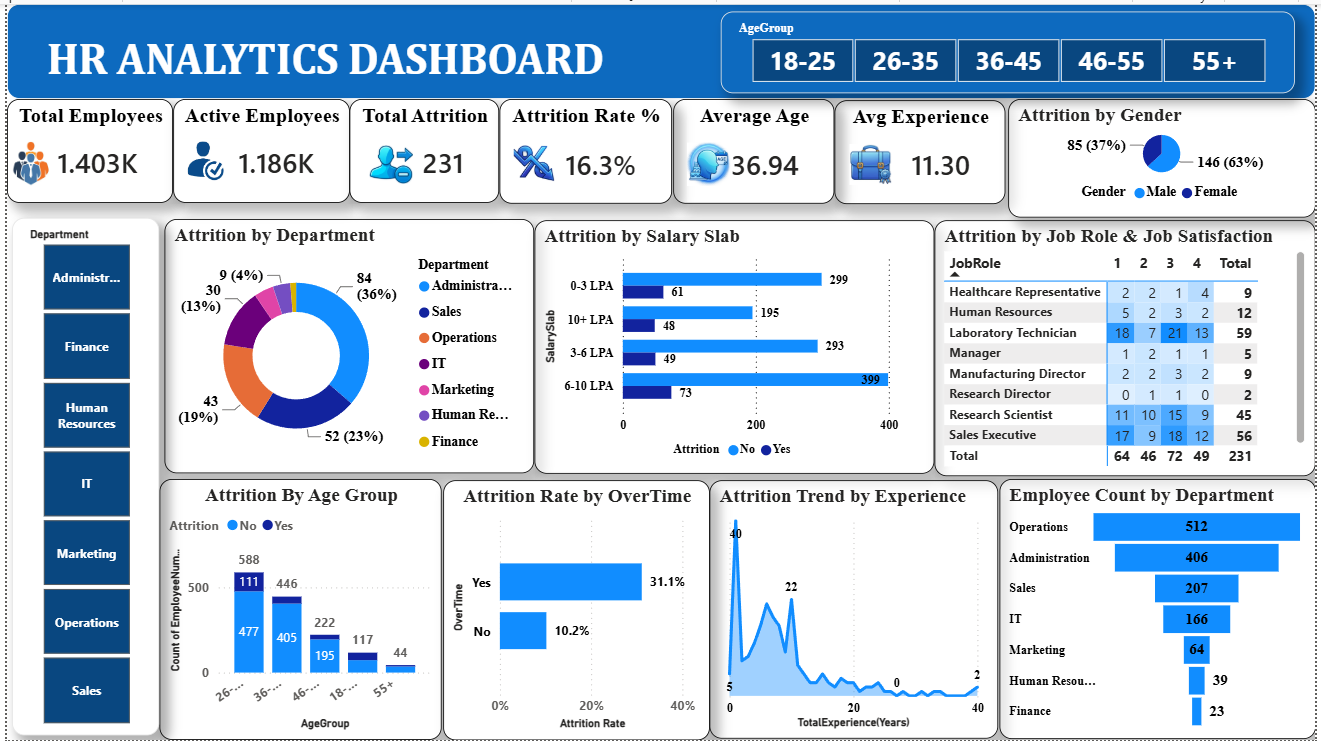

What the dashboard file says about the page in this screenshot:
{"tool":"powerbi","page":{"name":"Page 1","canvas":[1280,720],"ordinal":0},"visuals":[{"type":"textbox","box":[0,0,1280.3,92.9],"z":0},{"type":"cardVisual","title":"Total Employees","fields":{"Data":["Count(HR_Analytics-4.EmpID)"]},"box":[0,92.9,162.6,101.5],"z":1000},{"type":"cardVisual","title":"Active Employees","fields":{"Data":["CountNonNull(HR_Analytics-4.EmpID)"]},"box":[162.6,92.9,172.4,101.5],"z":2000},{"type":"cardVisual","title":"Total Attrition","fields":{"Data":["CountNonNull(HR_Analytics-4.AttritionCount)"]},"box":[335.1,92.9,146.7,101.5],"z":3000},{"type":"cardVisual","title":"Avg Experience","fields":{"Data":["Avg(HR_Analytics-4.TotalExperience(Years))"]},"box":[809.5,94.2,167.5,101.5],"z":4000},{"type":"cardVisual","title":"Average Age","fields":{"Data":["Avg(HR_Analytics-4.Age)"]},"box":[651.8,92.9,157.7,102.7],"z":5000},{"type":"cardVisual","title":"Attrition Rate %","fields":{"Data":["HR_Analytics-4.Attrition Rate %"]},"box":[481.8,92.9,168.8,102.7],"z":6000},{"type":"donutChart","title":" Attrition by Department","fields":{"Category":["HR_Analytics-4.Department"],"Y":["Sum(HR_Analytics-4.AttritionCount)"]},"box":[154.1,210.3,361.4,248.6],"z":7000},{"type":"clusteredBarChart","title":"Attrition by Salary Slab","fields":{"Category":["HR_Analytics-4.SalarySlab"],"Series":["HR_Analytics-4.Attrition"],"Y":["CountNonNull(HR_Analytics-4.EmpID)"]},"box":[516,211.6,391.3,248.2],"z":8000},{"type":"pivotTable","title":"Attrition by Job Role & Job Satisfaction","fields":{"Columns":["HR_Analytics-4.JobSatisfaction"],"Rows":["HR_Analytics-4.JobRole"],"Values":["Sum(HR_Analytics-4.AttritionCount)"]},"box":[907.3,211.6,373,250.7],"z":9000},{"type":"columnChart","title":"Attrition By Age Group","fields":{"Category":["HR_Analytics-4.AgeGroup"],"Series":["HR_Analytics-4.Attrition"],"Y":["CountNonNull(HR_Analytics-4.EmployeeNumber)"]},"box":[149.2,464.7,276.4,255.6],"z":10000},{"type":"pieChart","title":"Attrition by Gender","fields":{"Category":["HR_Analytics-4.Gender"],"Y":["Sum(HR_Analytics-4.AttritionCount)"]},"box":[979.5,92.9,300.8,116.2],"z":11000},{"type":"areaChart","title":"Attrition Trend by Experience","fields":{"Category":["HR_Analytics-4.TotalExperience(Years)"],"Y2":["Sum(HR_Analytics-4.AttritionCount)"]},"box":[687.2,465.9,282.5,253.1],"z":12000},{"type":"funnel","title":"Employee Count by Department","fields":{"Category":["HR_Analytics-4.Department"],"Y":["CountNonNull(HR_Analytics-4.EmpID)"]},"box":[970.9,464.7,309.4,254.3],"z":13000},{"type":"slicer","fields":{"Values":["HR_Analytics-4.Department"]},"box":[4.9,209.1,144.3,506.3],"z":14000},{"type":"slicer","fields":{"Values":["HR_Analytics-4.AgeGroup"]},"box":[698.6,7.1,561.4,80],"z":15000},{"type":"image","box":[4.9,133.3,36.7,45.2],"z":16000},{"type":"image","box":[171.2,128.4,44,50.1],"z":17000},{"type":"image","box":[354.6,114.9,42.8,84.4],"z":18000},{"type":"image","box":[495.2,129.6,40.4,52.6],"z":19000},{"type":"image","box":[665.2,128.4,42.8,56.3],"z":20000},{"type":"image","box":[824.2,95.4,41.6,123.5],"z":21000},{"type":"clusteredBarChart","fields":{"Category":["HR Analytics.OverTime"],"Y":["HR Analytics.Attrition Rate"]},"box":[426.8,465.9,260.5,254.3],"z":21001}]}

Visuals, with their boxes in screenshot pixels (x1, y1, x2, y2), scaled from the page's 1280x720 canvas onto the 1321x742 screenshot:
textbox: x1=0, y1=0, x2=1320, y2=96
"Total Employees" cardVisual: x1=0, y1=96, x2=168, y2=200
"Active Employees" cardVisual: x1=168, y1=96, x2=346, y2=200
"Total Attrition" cardVisual: x1=346, y1=96, x2=497, y2=200
"Avg Experience" cardVisual: x1=835, y1=97, x2=1008, y2=202
"Average Age" cardVisual: x1=673, y1=96, x2=835, y2=202
"Attrition Rate %" cardVisual: x1=497, y1=96, x2=671, y2=202
" Attrition by Department" donutChart: x1=159, y1=217, x2=532, y2=473
"Attrition by Salary Slab" clusteredBarChart: x1=533, y1=218, x2=936, y2=474
"Attrition by Job Role & Job Satisfaction" pivotTable: x1=936, y1=218, x2=1320, y2=476
"Attrition By Age Group" columnChart: x1=154, y1=479, x2=439, y2=741
"Attrition by Gender" pieChart: x1=1011, y1=96, x2=1320, y2=215
"Attrition Trend by Experience" areaChart: x1=709, y1=480, x2=1001, y2=741
"Employee Count by Department" funnel: x1=1002, y1=479, x2=1320, y2=741
slicer - HR_Analytics-4.Department: x1=5, y1=215, x2=154, y2=737
slicer - HR_Analytics-4.AgeGroup: x1=721, y1=7, x2=1300, y2=90
image: x1=5, y1=137, x2=43, y2=184
image: x1=177, y1=132, x2=222, y2=184
image: x1=366, y1=118, x2=410, y2=205
image: x1=511, y1=134, x2=553, y2=188
image: x1=687, y1=132, x2=731, y2=190
image: x1=851, y1=98, x2=894, y2=226
clusteredBarChart - HR Analytics.OverTime x HR Analytics.Attrition Rate: x1=440, y1=480, x2=709, y2=741
